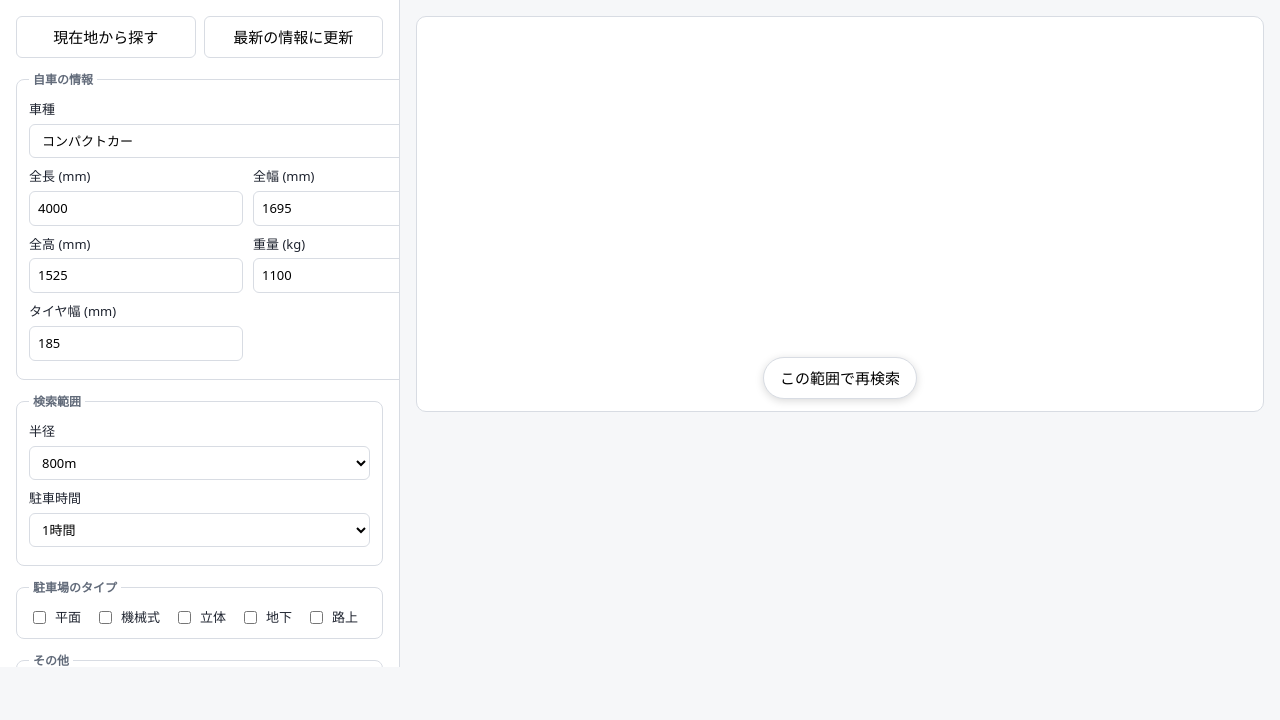
ParkingExplorer › reports a geolocation failure
Click the button "現在地から探す".
click(106, 37)  # box [16,16,196,58]
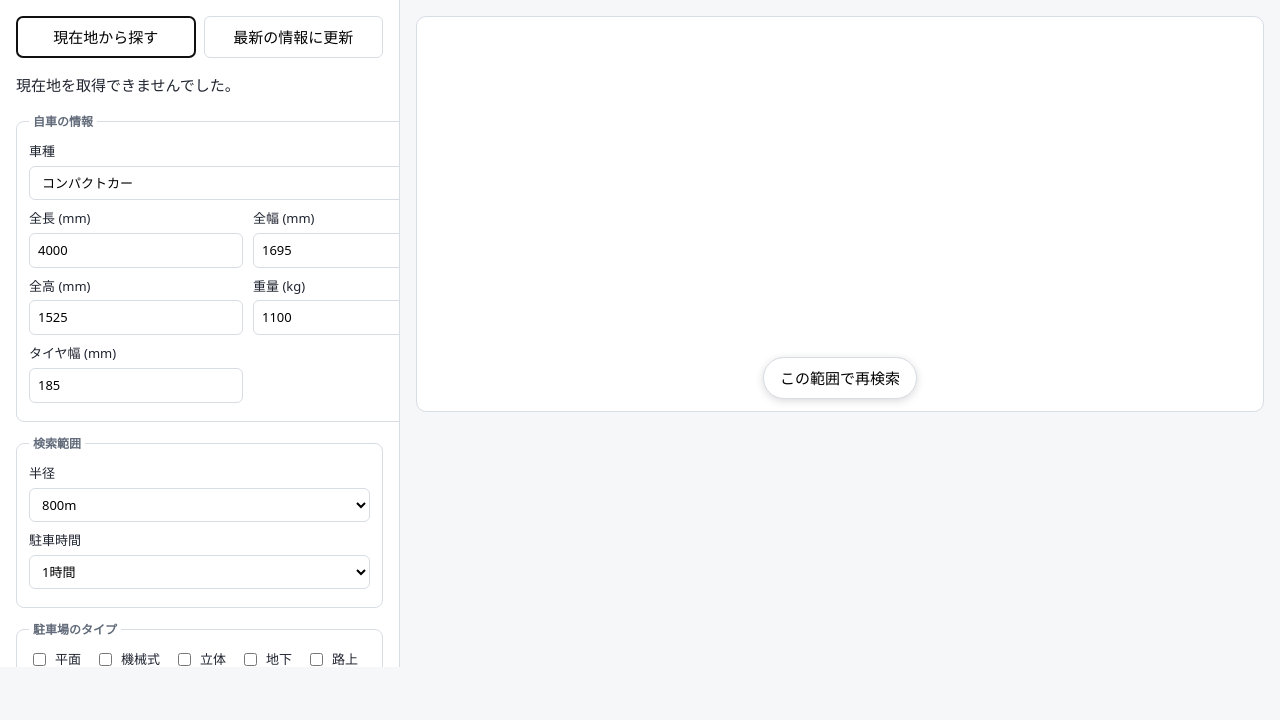
Expected: the message reads "現在地を取得できませんでした。", [16,75,240,95]
